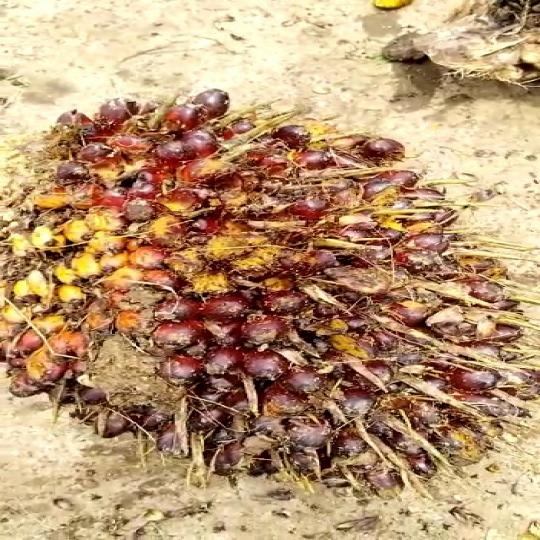masak: (0, 75, 540, 516)
